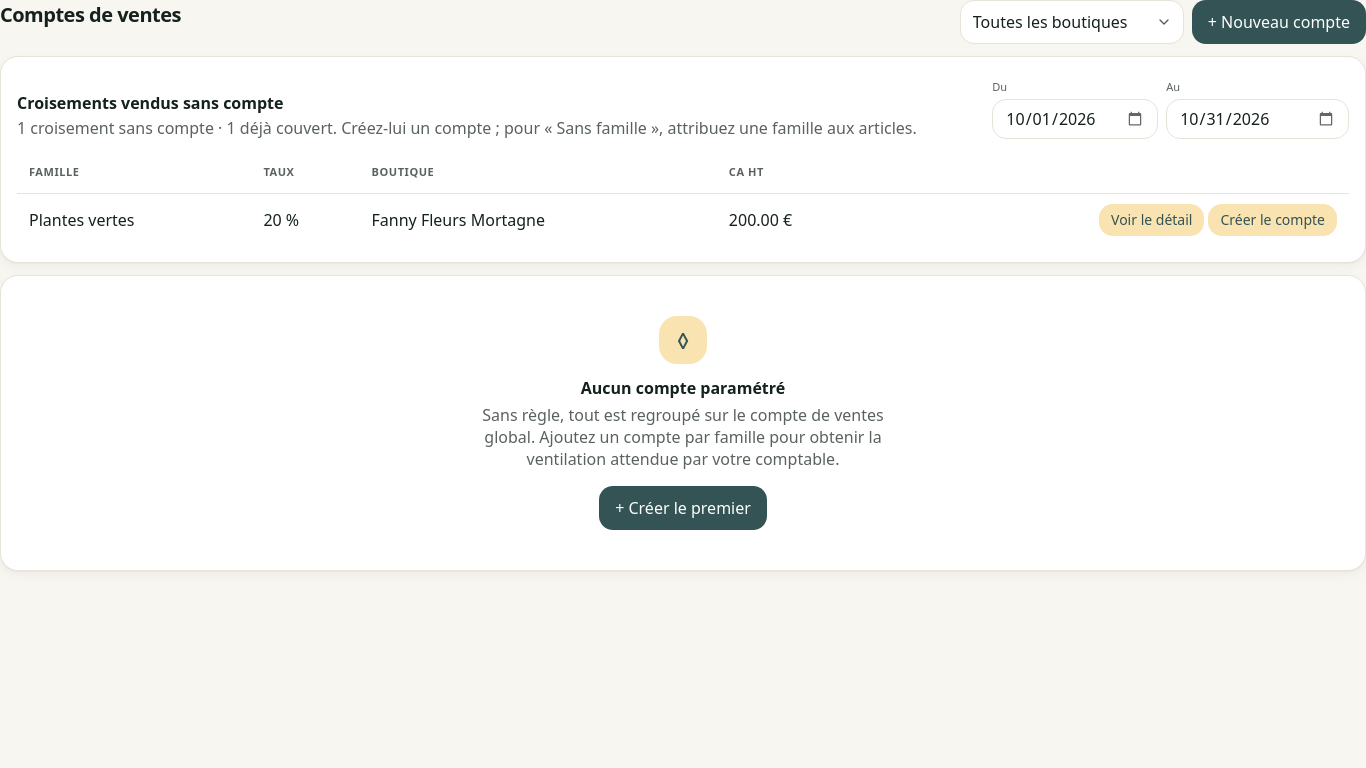
Test: Croisements vendus sans compte › ouvre le formulaire pré-rempli sur le croisement
Click the button "Créer le compte" at point(1273, 220), box [1208,204,1337,236]
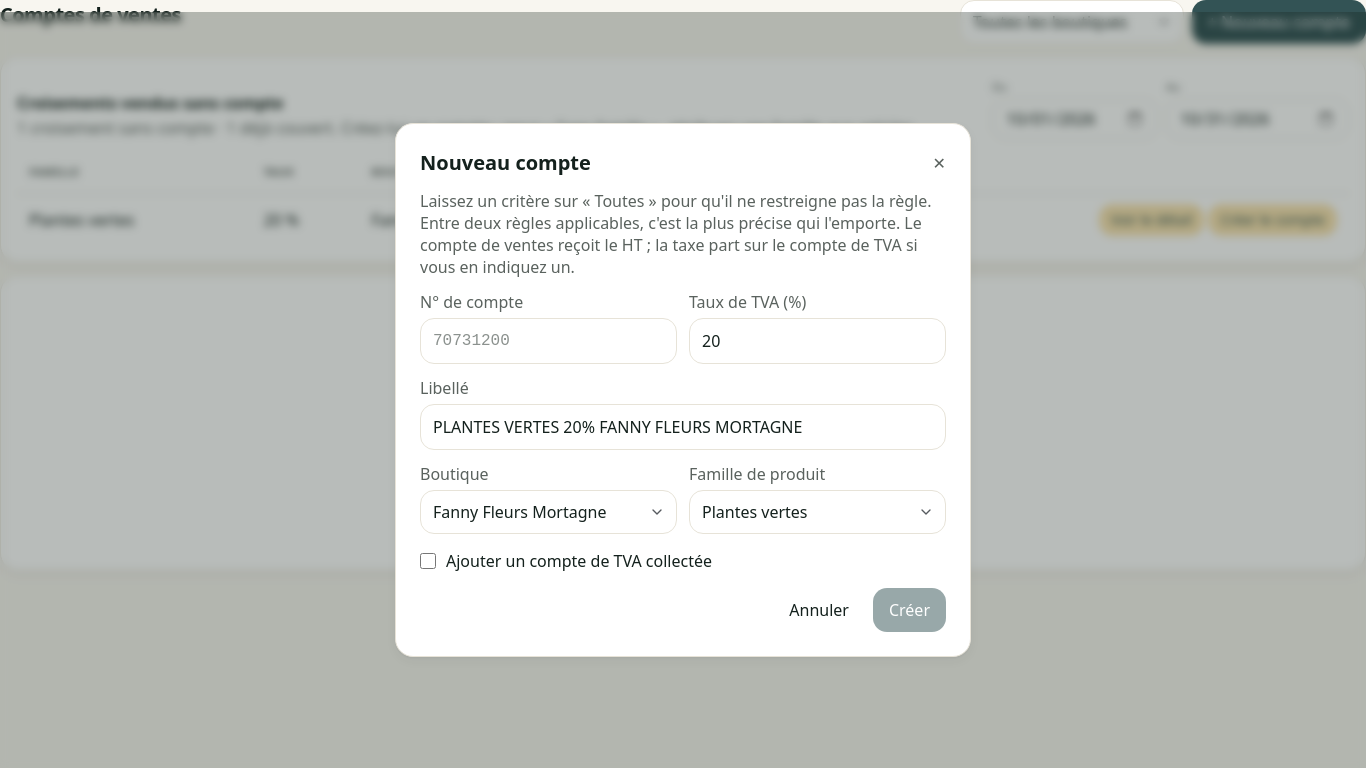
Expected: the heading "Nouveau compte" is shown, [420,148,591,178]
Expected: the 1st dropdown shows "Fanny Fleurs Mortagne", [420,490,677,534]
Expected: the dropdown below "Famille de produit" shows "Plantes vertes", [689,490,946,534]
